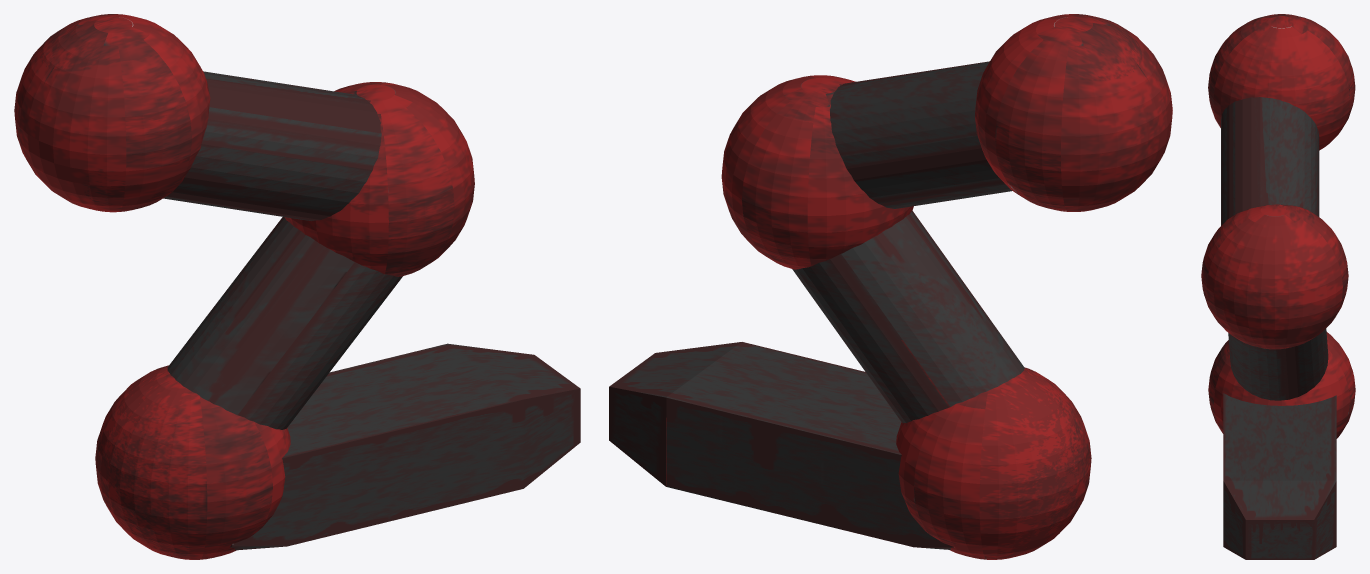
Rendered from Rightleg.obj.
3 renders of one model, left to right at view 1: azimuth 30°, elevation 25°; view 2: azimuth 150°, elevation 25°; view 3: azimuth 270°, elevation 25°, orthographic. The views are drawn at different scales.
Visible parts, largest first — view 1: 足_立方体.007; view 2: 足_立方体.007; view 3: 足_立方体.007.
Part boxes in pixels (x1=…): 足_立方体.007: x1=14, y1=14, x2=580, y2=559; 足_立方体.007: x1=609, y1=14, x2=1172, y2=559; 足_立方体.007: x1=1201, y1=14, x2=1355, y2=559.
Bounding box in the file's own units: 18.46 × 18.26 × 6.29.
1 material, 1 textured.
